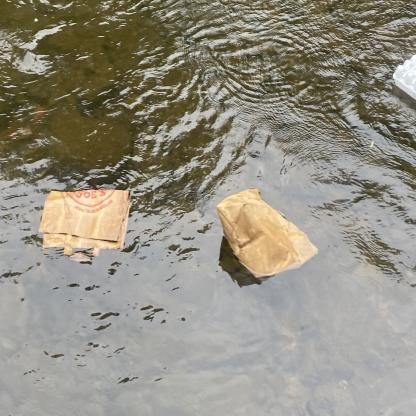trash: (218, 186, 318, 283), (39, 187, 132, 264), (391, 53, 416, 104)
